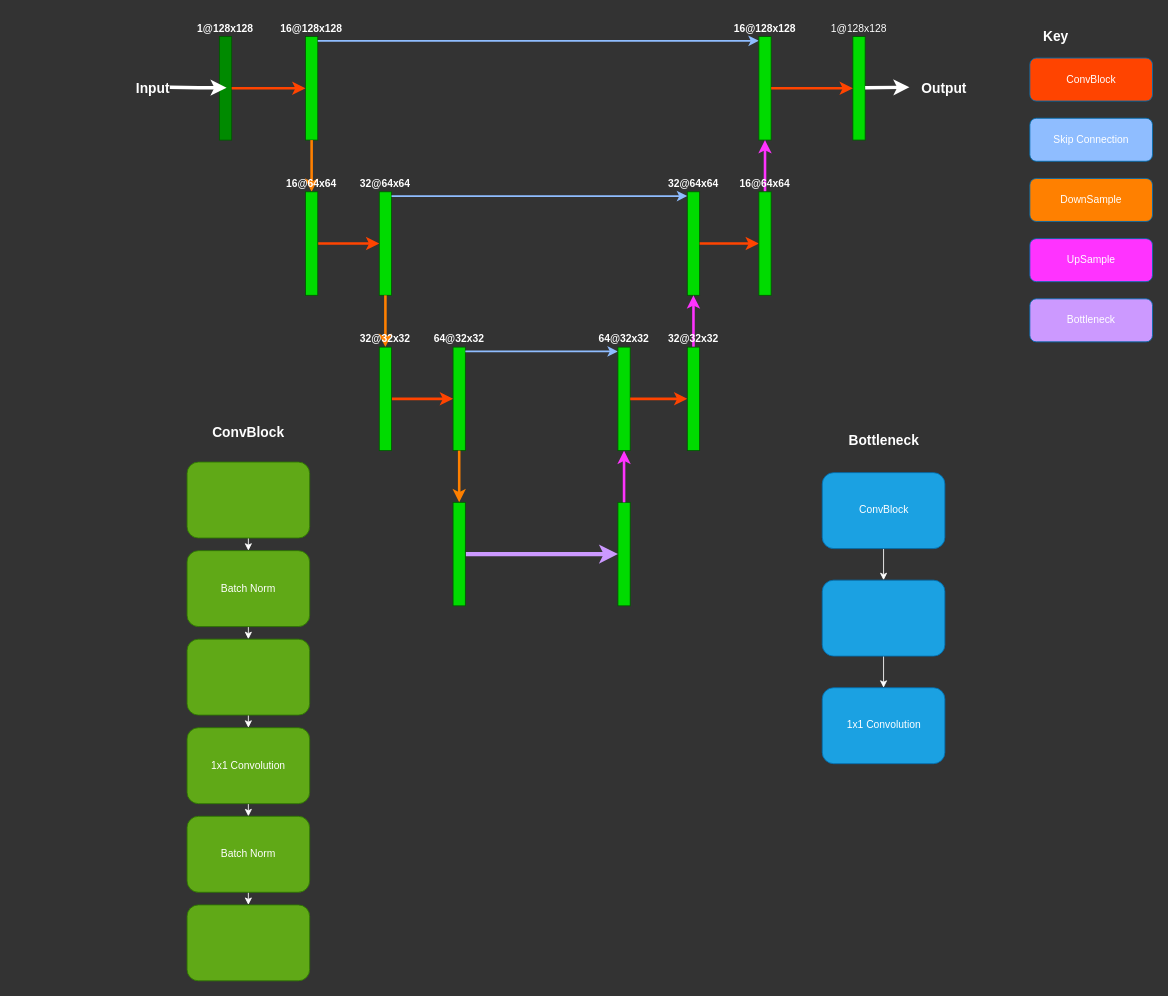
The diagram is 1168 pixels wide and 996 high, and some of its shapes have lost their labels. The box of each missing label's shape, as (x1, y1, x2, y2) in pixels:
128@16x16: (617, 501, 630, 606)
64@16x16: (452, 501, 465, 606)
7x7 Convolution: (186, 461, 310, 538)
GELU: (186, 904, 310, 981)
Multi head attention: (821, 579, 945, 656)
ReLU: (186, 638, 310, 715)
